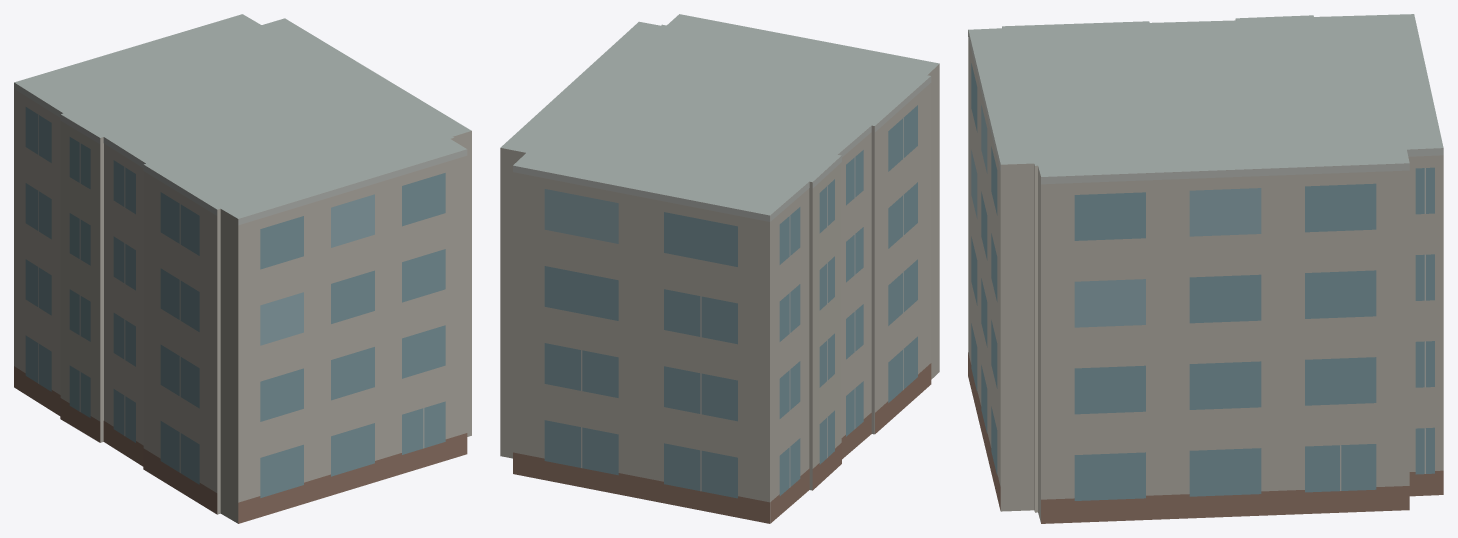
Rendered from survey-upis-32670641.glb.
3 renders of one model, left to right at view 1: azimuth 30°, elevation 25°; view 2: azimuth 150°, elevation 25°; view 3: azimuth 270°, elevation 25°, orthographic. The views are drawn at different scales.
Visible parts, largest first — view 1: survey-upis-32670641.tmp; view 2: survey-upis-32670641.tmp; view 3: survey-upis-32670641.tmp.
Boxes of the visible parts, x1=… form: survey-upis-32670641.tmp: x1=14, y1=14, x2=471, y2=523; survey-upis-32670641.tmp: x1=500, y1=14, x2=939, y2=523; survey-upis-32670641.tmp: x1=968, y1=14, x2=1443, y2=523.
Bounding box in the file's own units: 11.7 × 11.6 × 14.42.
